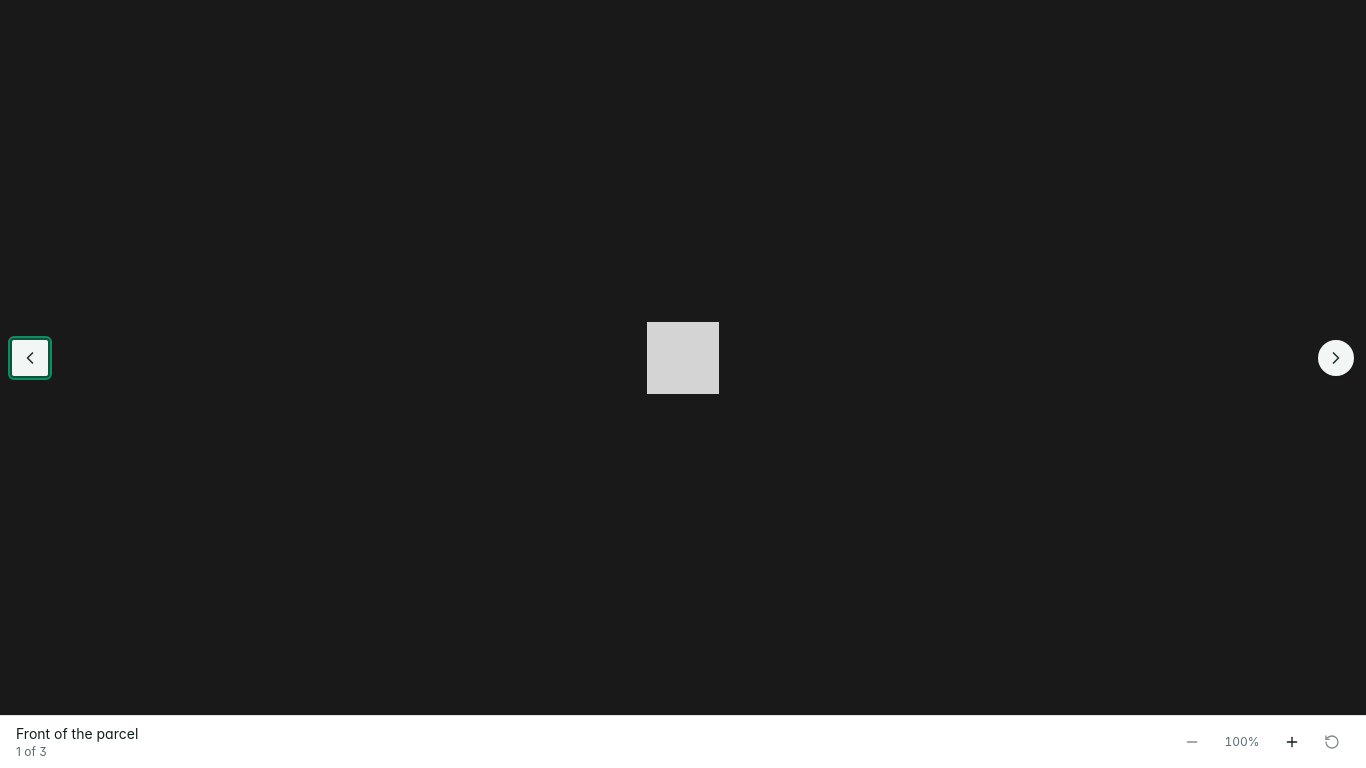
Test: a gallery › resets the zoom when it moves, because this is a different picture
The width and height of the screenshot is (1366, 768).
Click the button named "zoom in": (1292, 742) [1274,724,1310,760]
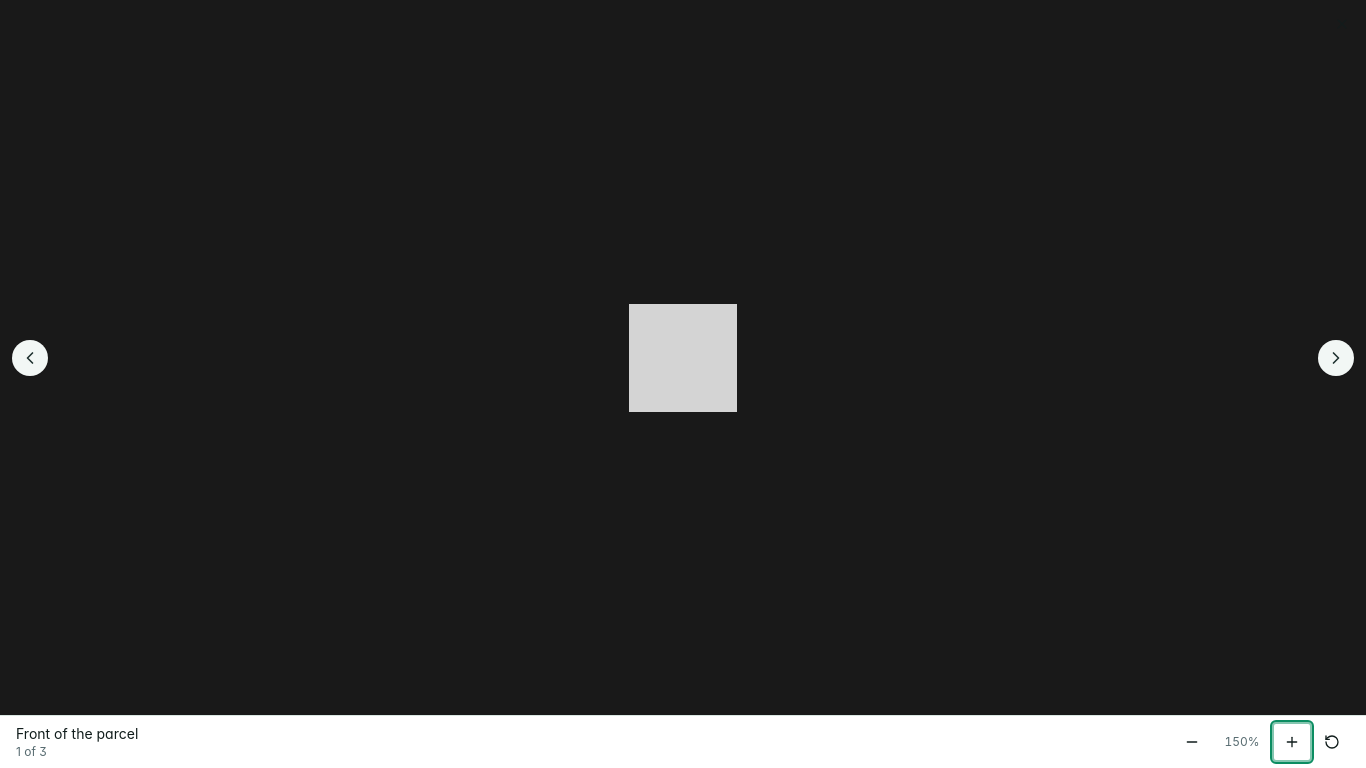
Expected: the text "150%" is shown, [1224,734,1260,749]
Click the button named "next image": (1336, 358) [1318,340,1354,376]
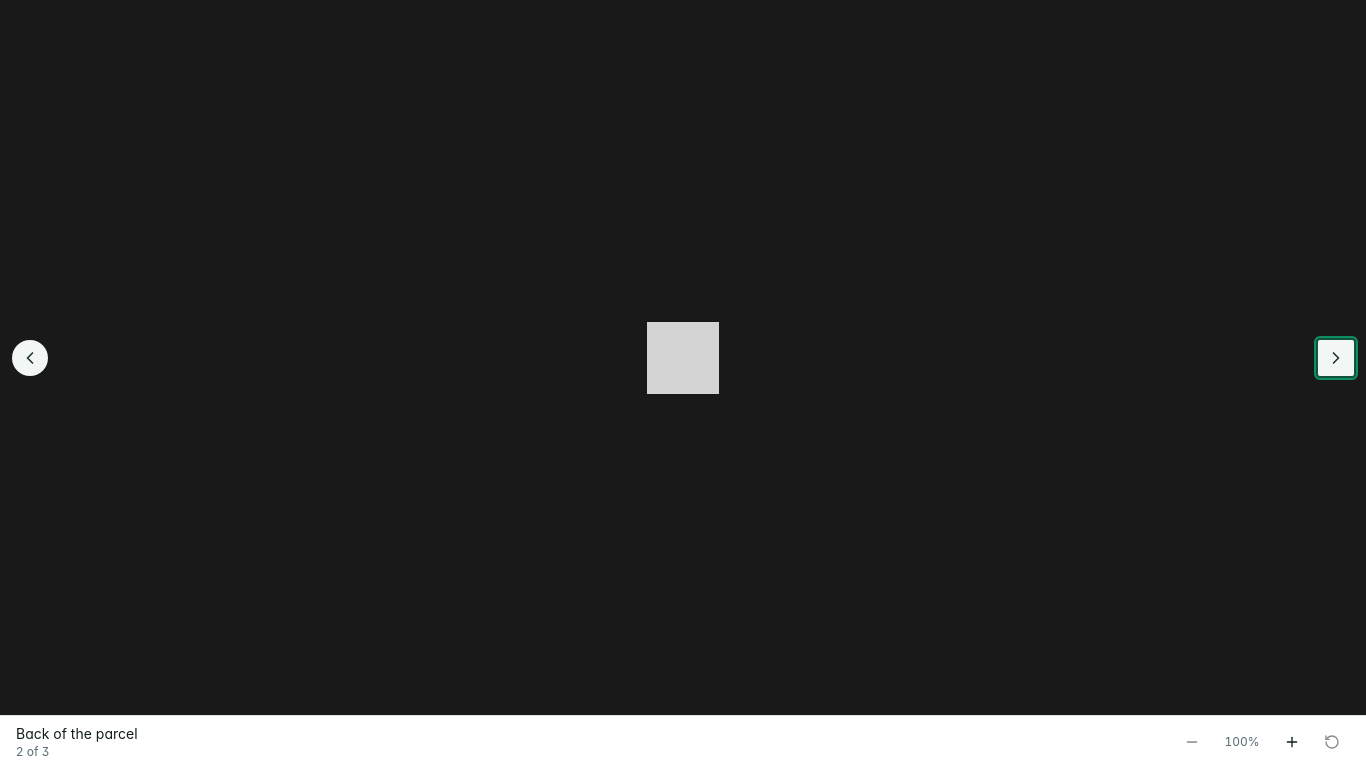
Expected: the text "100%" is shown, [1224,734,1260,749]
